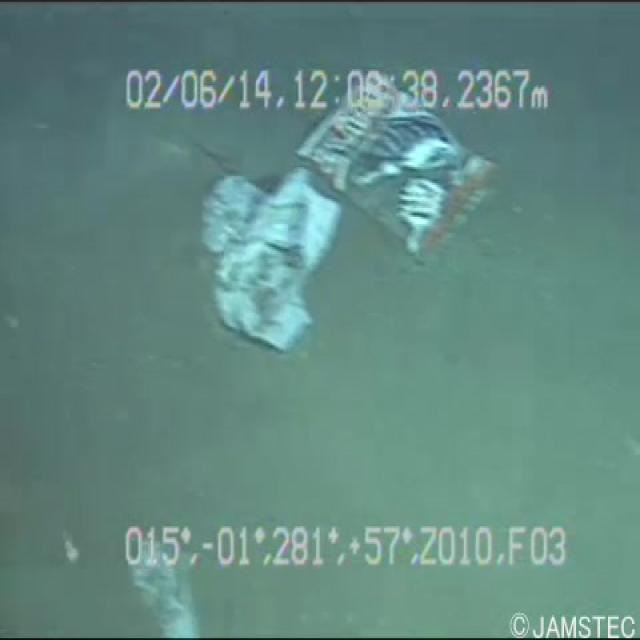plastic: (292, 52, 511, 272), (177, 166, 359, 367)
